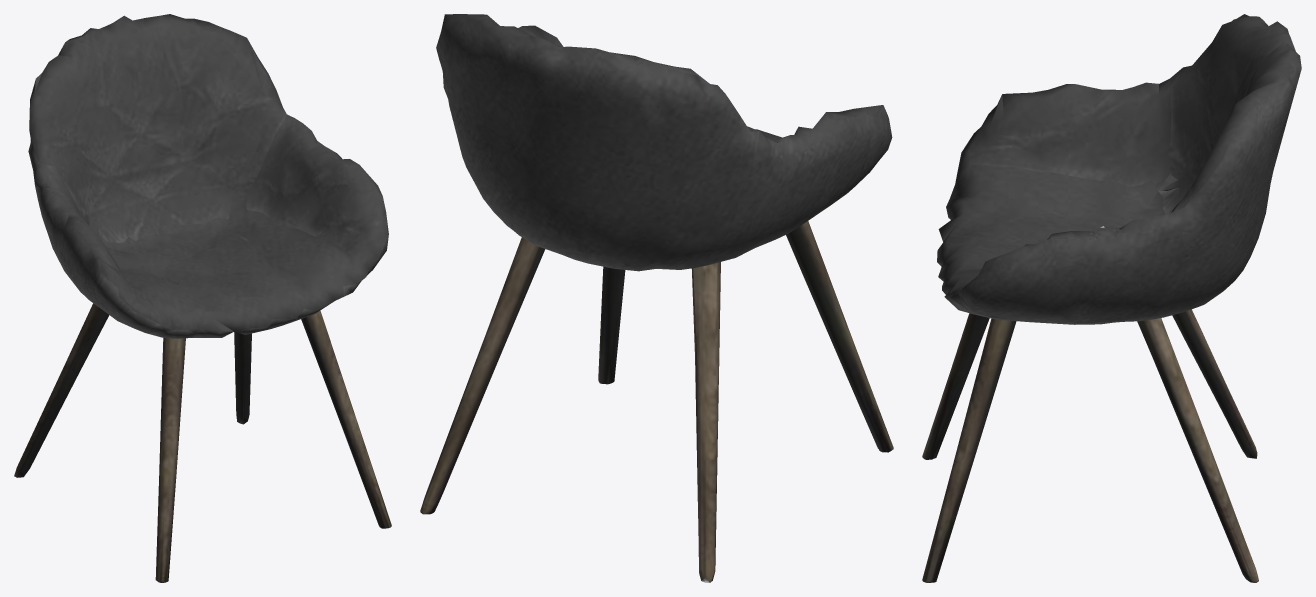
Rendered from Chair0010.obj.
The picture shows the model from 3 angles, left to right: view 1: azimuth 30°, elevation 25°; view 2: azimuth 150°, elevation 25°; view 3: azimuth 270°, elevation 25°; orthographic projection. The views are drawn at different scales.
Bounding box in the file's own units: 0.677 × 0.922 × 0.668.
Materials: 1 (1 with a texture image).
